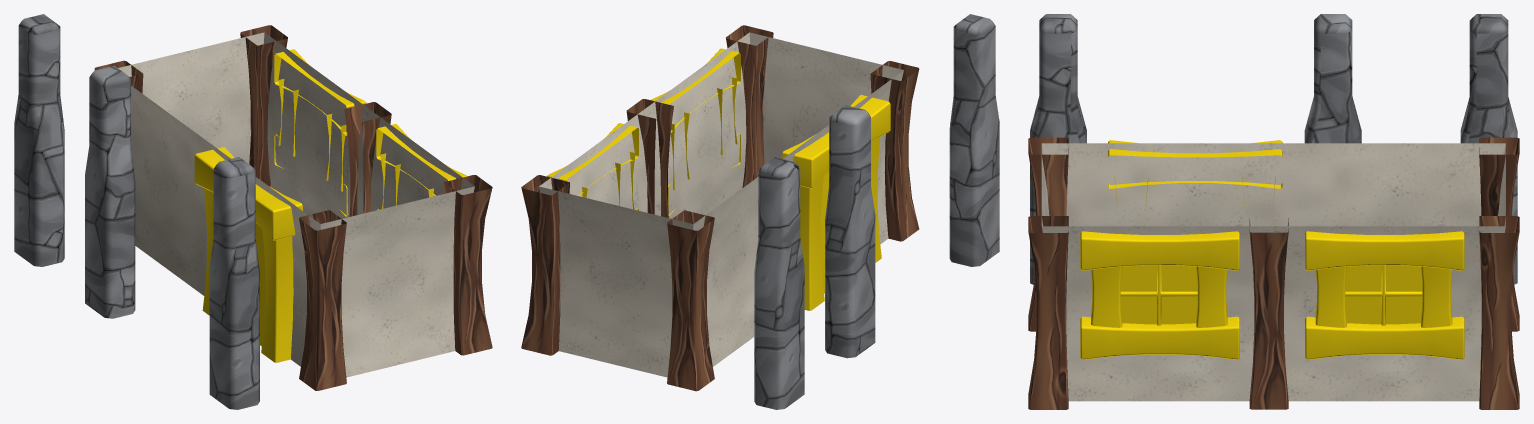
Rendered from house_ground_floor4.FBX.
3 renders of one model, left to right at view 1: azimuth 30°, elevation 25°; view 2: azimuth 150°, elevation 25°; view 3: azimuth 270°, elevation 25°, orthographic. The views are drawn at different scales.
Parts seen in each view (by area): view 1: ground_floor004; view 2: ground_floor004; view 3: ground_floor004.
Boxes of the visible parts, box(x1,y1,x2,y2) form: ground_floor004: box(14, 14, 492, 409); ground_floor004: box(521, 14, 999, 409); ground_floor004: box(1028, 14, 1519, 409).
Size of the model in its own units: 340 by 293 by 503.
